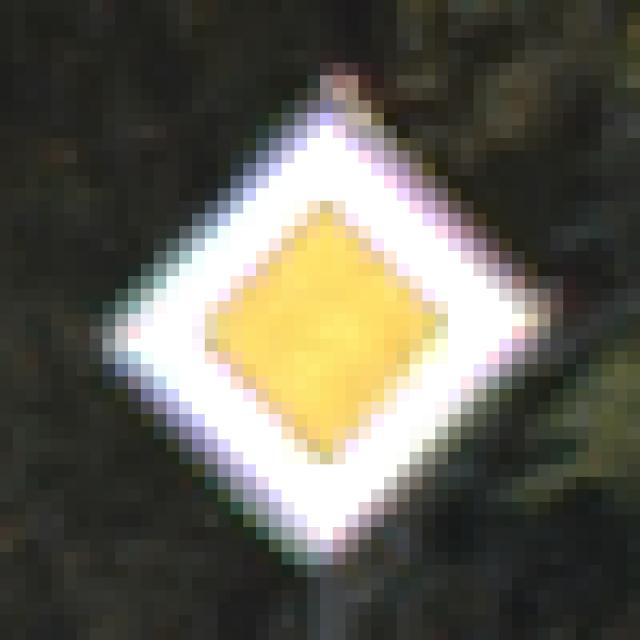Main Road: (65, 76, 564, 566)
